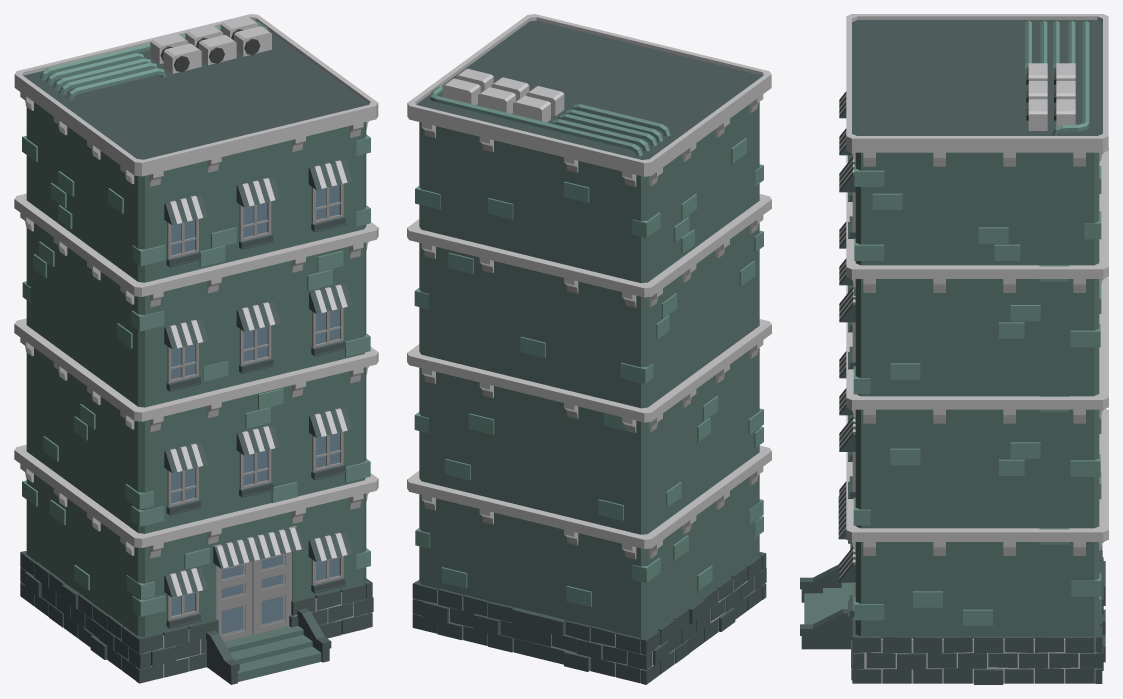
The model's file is four_story_mat.glb.
3 views of the same model, side by side, from view 1: azimuth 30°, elevation 25°; view 2: azimuth 150°, elevation 25°; view 3: azimuth 270°, elevation 25° (orthographic). The views are drawn at different scales.
Visible parts, largest first — view 1: 4Story_Mat; view 2: 4Story_Mat; view 3: 4Story_Mat.
Boxes of the visible parts, x1,y1,x2,y2 form: 4Story_Mat: [14, 14, 378, 684]; 4Story_Mat: [407, 14, 771, 684]; 4Story_Mat: [800, 14, 1108, 684].
Size of the model in its own units: 2.42 by 5.09 by 2.53.
1 material, 1 textured.
